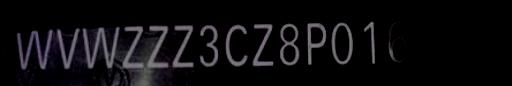letter: (14, 22, 56, 75), (80, 24, 122, 74), (438, 15, 468, 69), (304, 14, 330, 68), (251, 19, 277, 71), (54, 24, 82, 71), (172, 19, 196, 73), (473, 15, 499, 64), (122, 22, 146, 75), (224, 19, 250, 67), (412, 17, 436, 67), (332, 19, 358, 65), (146, 21, 170, 70), (385, 18, 409, 66), (198, 22, 220, 69), (280, 19, 302, 65), (360, 18, 378, 66)
